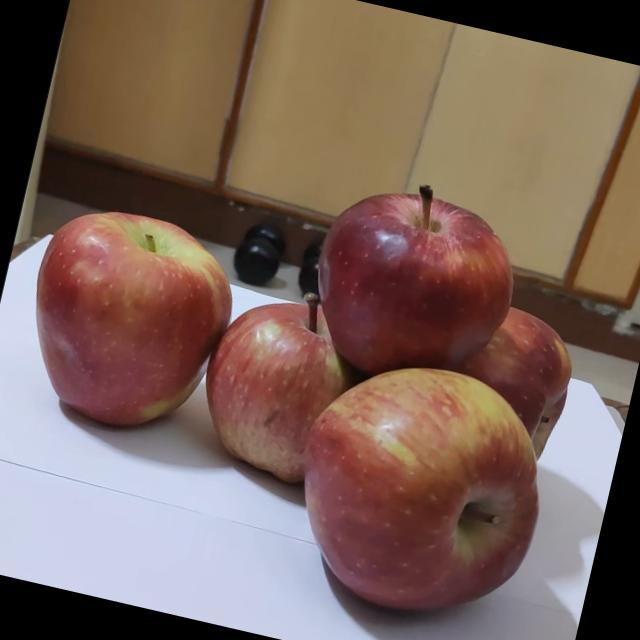apple: (216, 346, 537, 640), (0, 193, 266, 473), (352, 294, 602, 546), (267, 174, 513, 430), (165, 281, 378, 526)
